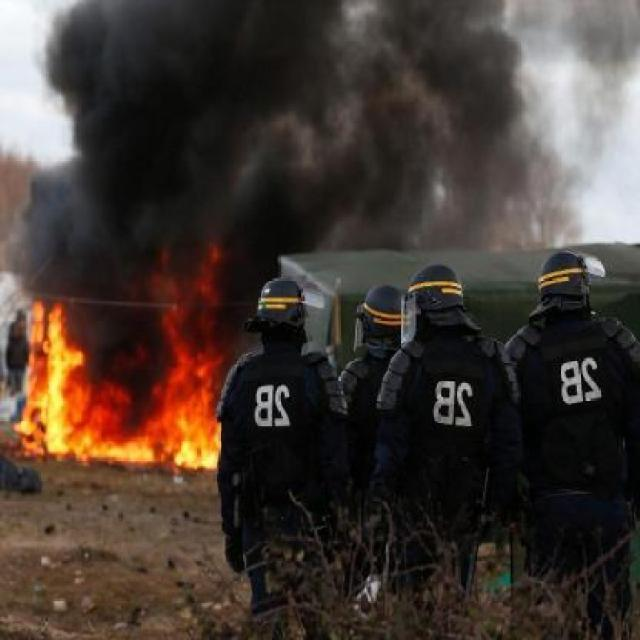Fire: (21, 272, 219, 476)
Smoke: (11, 3, 572, 249)
